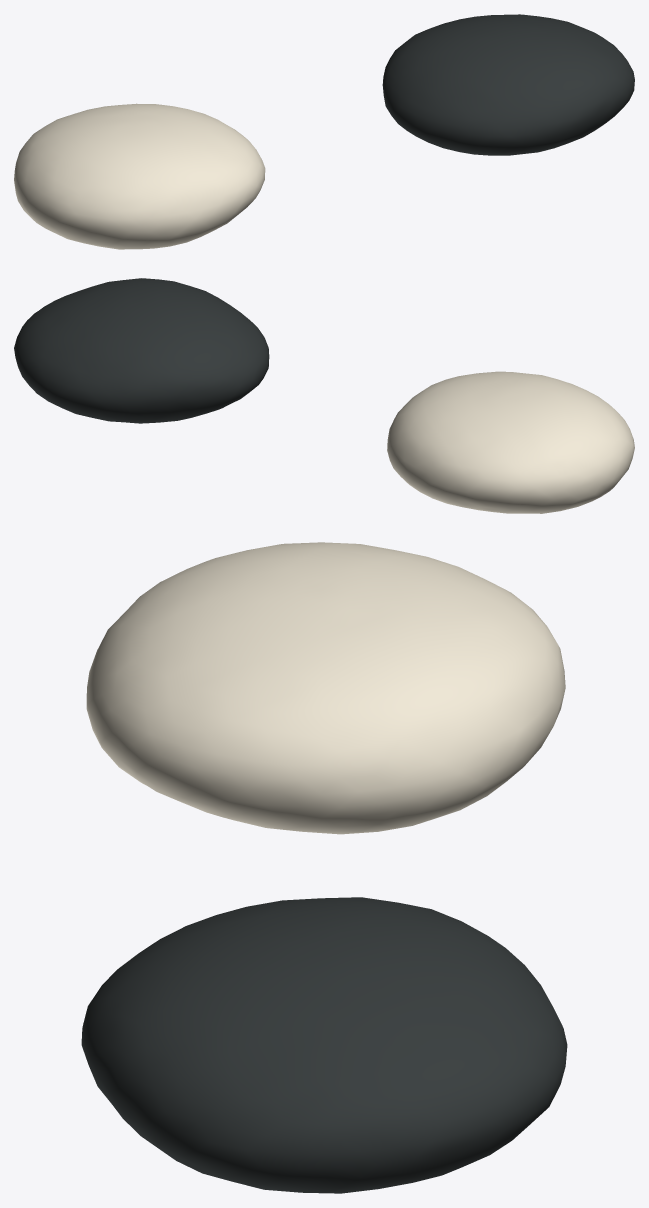
The model's file is collection.glb.
3 views of the same model, one above another, from view 1: azimuth 30°, elevation 25°; view 2: azimuth 150°, elevation 25°; view 3: azimuth 270°, elevation 25° (orthographic). The views are drawn at different scales.
Visible parts, largest first — view 1: light rounded pebble, dark rounded pebble; view 2: dark rounded pebble, light rounded pebble; view 3: dark rounded pebble, light rounded pebble.
Part boxes in pixels (x1=…): light rounded pebble: x1=14, y1=103, x2=265, y2=249; dark rounded pebble: x1=382, y1=14, x2=634, y2=155; dark rounded pebble: x1=14, y1=278, x2=269, y2=423; light rounded pebble: x1=387, y1=371, x2=634, y2=513; dark rounded pebble: x1=81, y1=897, x2=567, y2=1193; light rounded pebble: x1=86, y1=542, x2=565, y2=834.
Bounding box in the file's own units: 0.0989 × 0.0163 × 0.0354.
